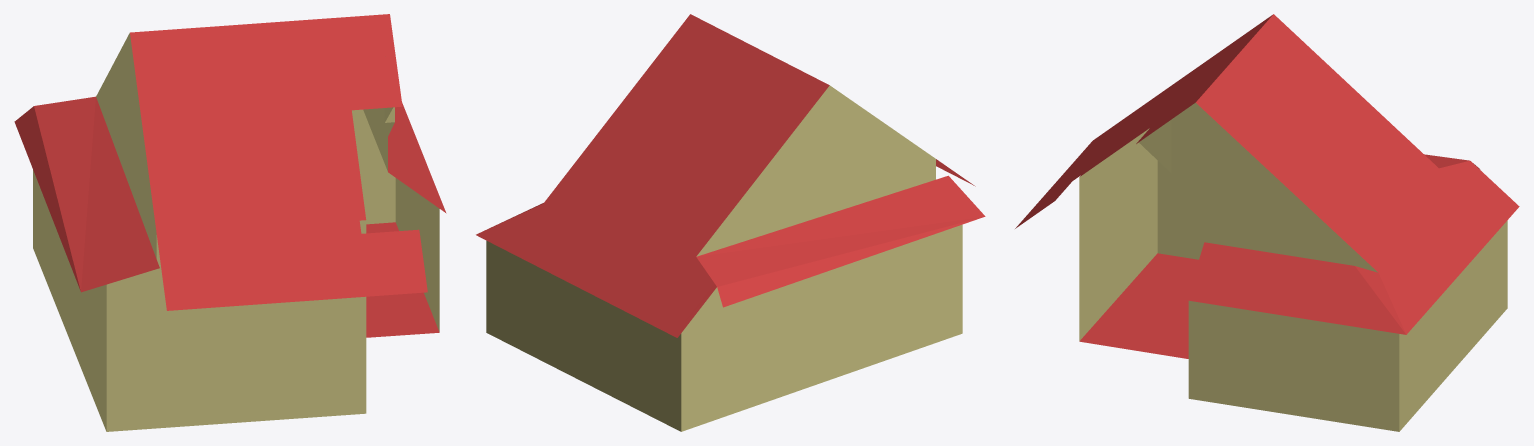
3 views of the same model, side by side, from view 1: azimuth 30°, elevation 25°; view 2: azimuth 150°, elevation 25°; view 3: azimuth 270°, elevation 25° (orthographic). The views are drawn at different scales.
Bounding box in the file's own units: 26.11 × 28.83 × 17.46.
